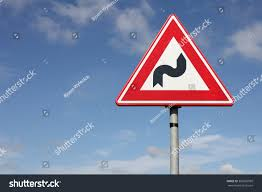Double_bend_right: (115, 13, 234, 106)
